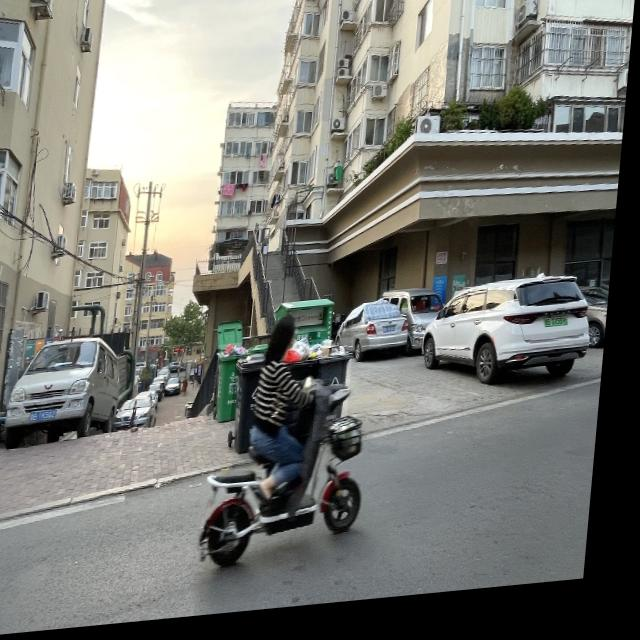garbage_bin: (237, 358, 272, 459)
overflow: (286, 343, 327, 449), (321, 345, 361, 448), (220, 348, 256, 428)
